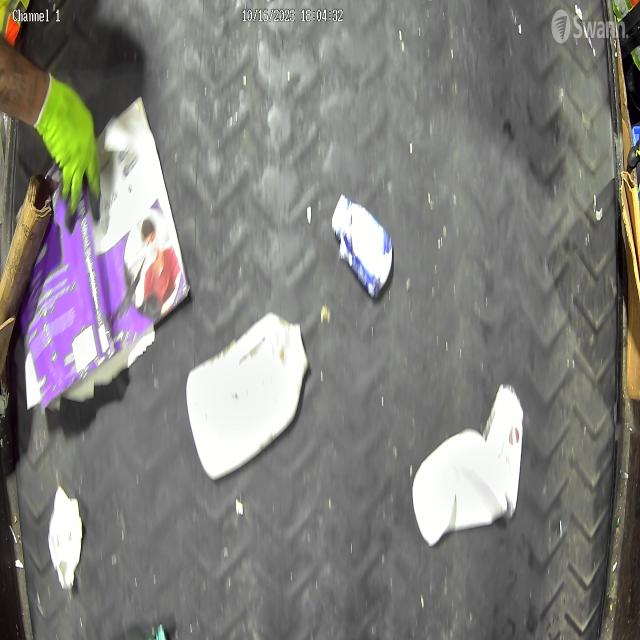milk_jug: (188, 310, 308, 479), (411, 384, 525, 546)
